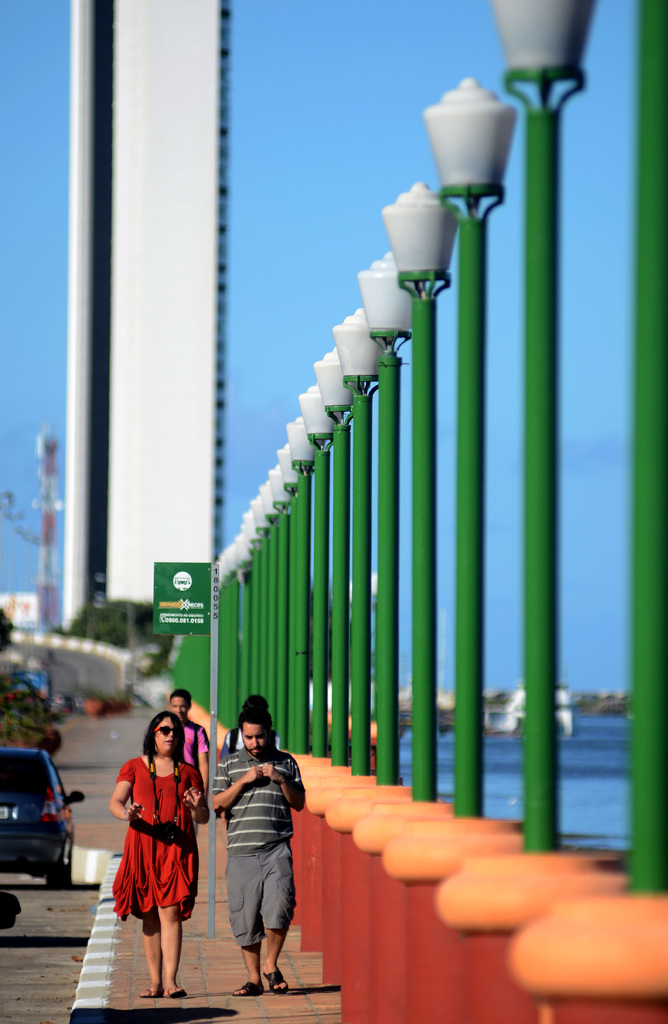Car: (0, 741, 96, 867)
